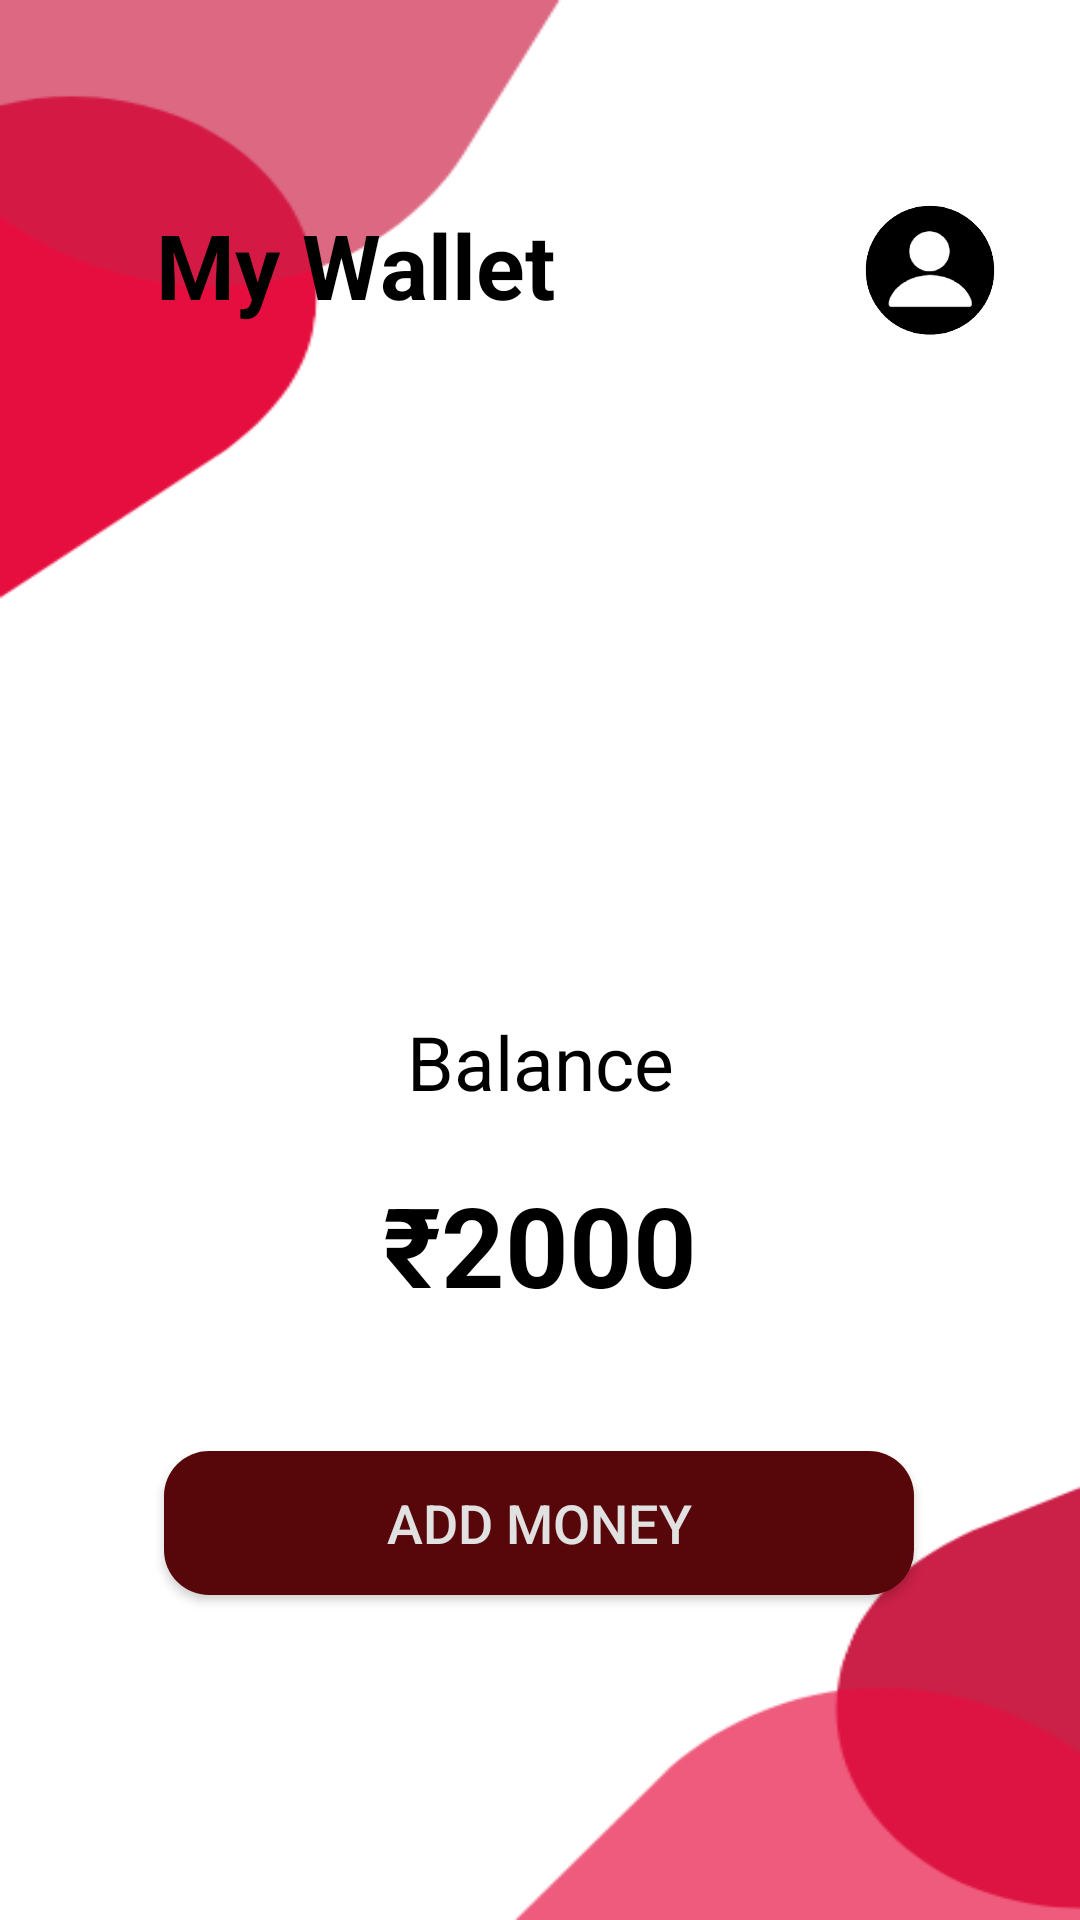

Locate icon controls on the screen. Image size 1080 x 1920, boxes as (x1=x1, y1=y1, x2=x2, y2=y2).
profile: (x1=865, y1=206, x2=994, y2=335)
